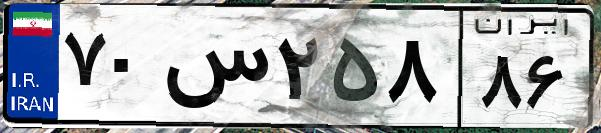0: (110, 28, 158, 98)
2: (270, 28, 330, 110)
5: (330, 28, 385, 110)
6: (525, 38, 570, 115)
7: (57, 26, 110, 100)
8: (385, 28, 445, 110), (475, 38, 525, 113)
س: (158, 20, 270, 120)
